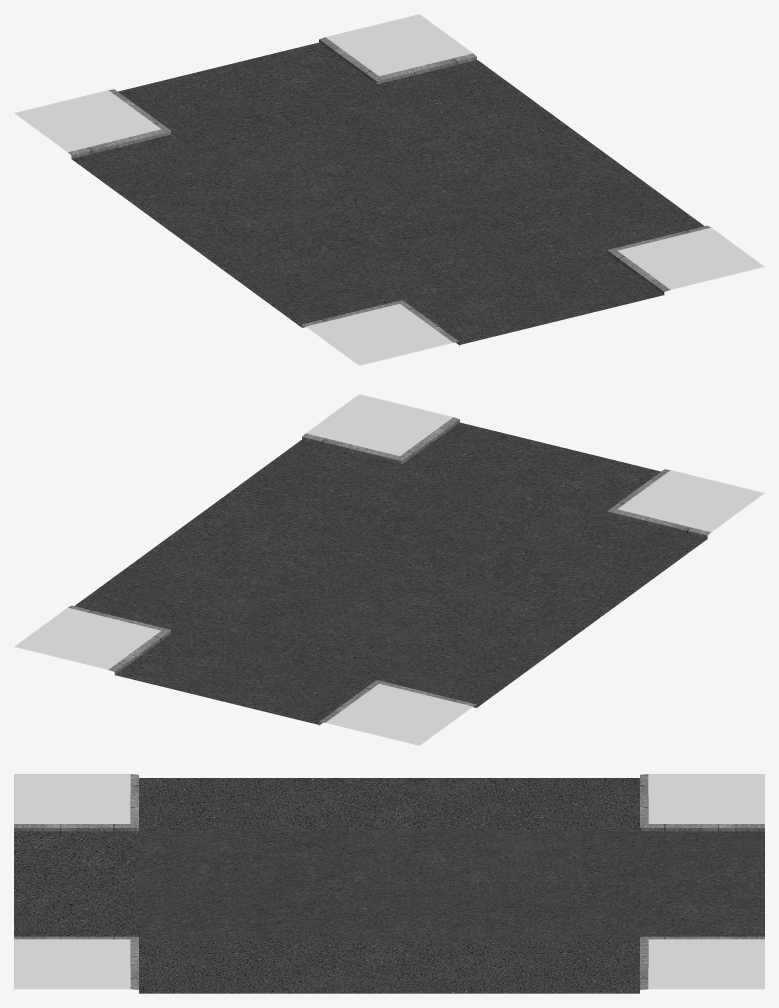
File: SM_CrossRoad2-2.fbx
3 views of the same model, one above another, from view 1: azimuth 30°, elevation 25°; view 2: azimuth 150°, elevation 25°; view 3: azimuth 270°, elevation 25° (orthographic). The views are drawn at different scales.
Visible parts, largest first — view 1: CrossRoad2-2, pavement.005, pavement.006; view 2: CrossRoad2-2, pavement.005, pavement.006; view 3: CrossRoad2-2, pavement.005, pavement.006.
Part boxes in pixels (bbox=[...]): CrossRoad2-2: bbox=[72, 42, 704, 344]; pavement.005: bbox=[14, 14, 764, 365]; pavement.006: bbox=[68, 37, 710, 345]; CrossRoad2-2: bbox=[74, 422, 706, 724]; pavement.005: bbox=[14, 394, 764, 745]; pavement.006: bbox=[68, 417, 710, 725]; CrossRoad2-2: bbox=[14, 778, 764, 993]; pavement.005: bbox=[14, 774, 764, 989]; pavement.006: bbox=[14, 774, 764, 989].
Bounding box in the file's own units: 812 × 8.25 × 1195.
3 materials, 2 textured.
